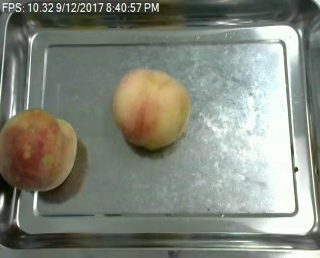Peach: (0, 109, 78, 193), (111, 68, 191, 149)
